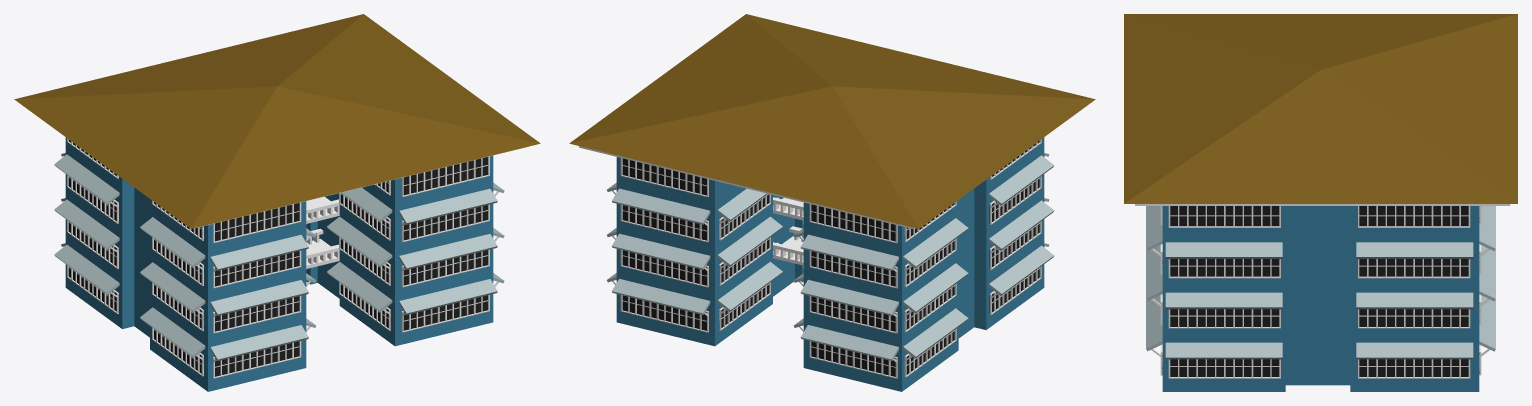
The model's file is Cattleya.glb.
3 renders of one model, left to right at view 1: azimuth 30°, elevation 25°; view 2: azimuth 150°, elevation 25°; view 3: azimuth 270°, elevation 25°, orthographic. The views are drawn at different scales.
Visible parts, largest first — view 1: cube.001; view 2: cube.001; view 3: cube.001.
Part boxes in pixels (x1=…): cube.001: x1=14, y1=14, x2=540, y2=391; cube.001: x1=569, y1=14, x2=1095, y2=391; cube.001: x1=1124, y1=14, x2=1517, y2=391.
Bounding box in the file's own units: 9.12 × 5.46 × 8.
6 materials, 6 textured.
